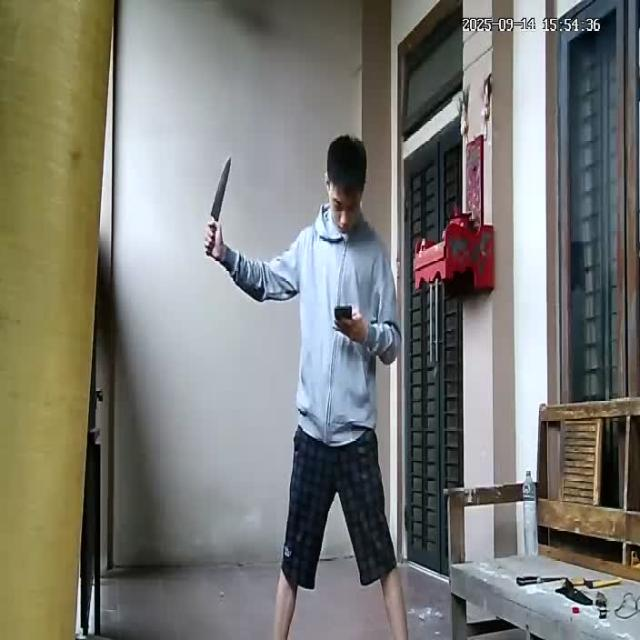senjata_tajam: (209, 157, 233, 221)
